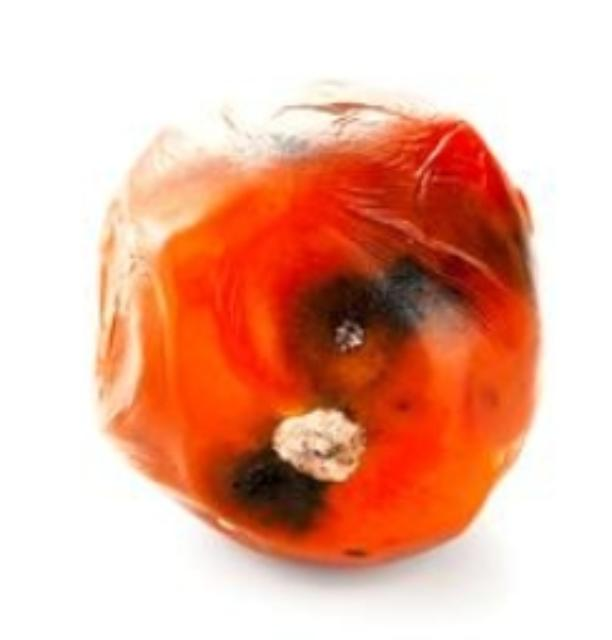defect: (79, 72, 554, 581)
